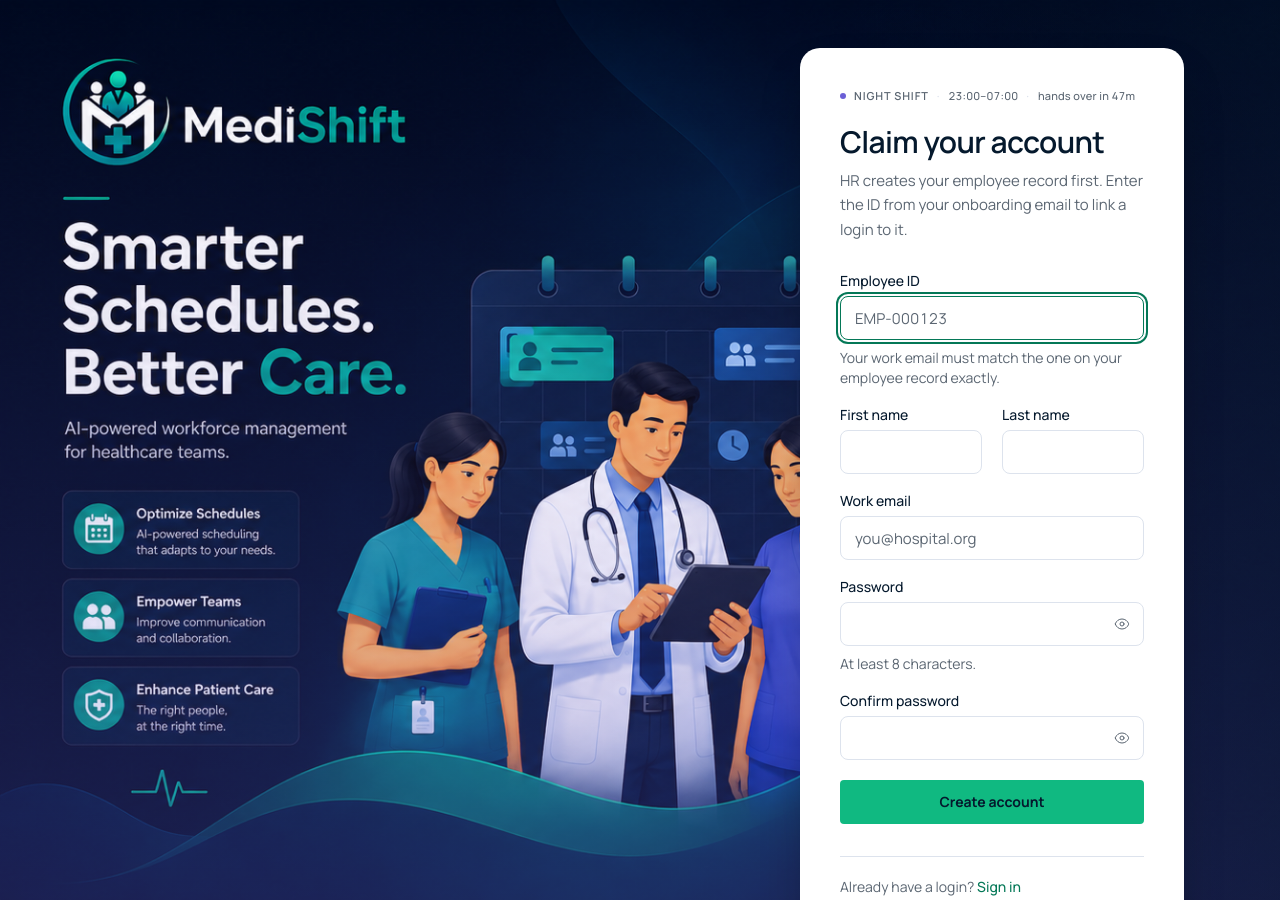
RegisterPage › requires an employee ID even though the API treats it as optional
This screenshot has width=1280, height=900.
What coordinates should you click on to do the following:
click the button "Create account"
I would click on:
 (992, 802)
Its box is x1=840 y1=780 x2=1144 y2=824.
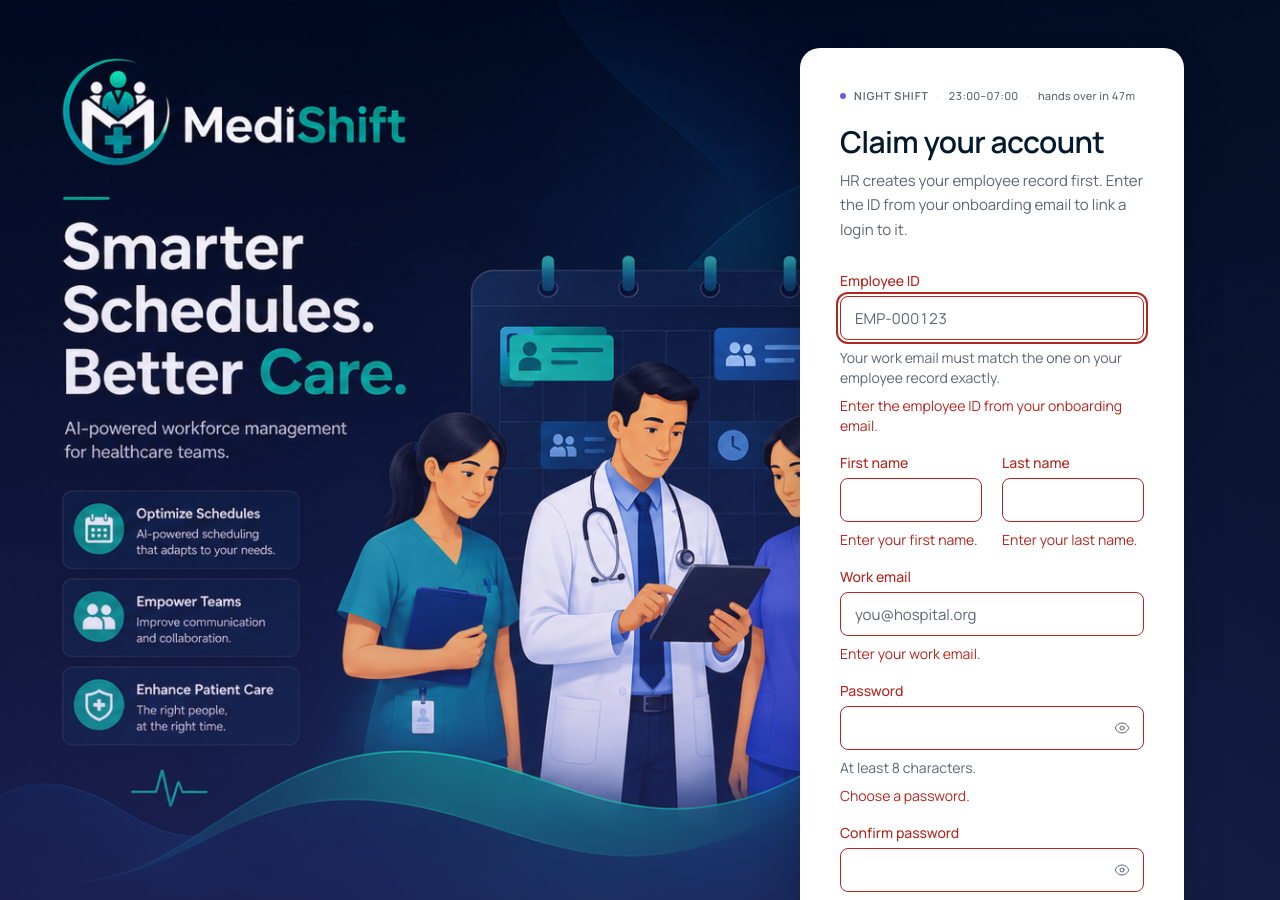
Result: the text "Enter the employee ID from your onboarding email." is shown at x1=840 y1=396 x2=1144 y2=436
